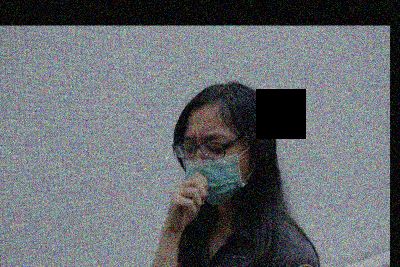with_mask: (181, 130, 248, 208)
